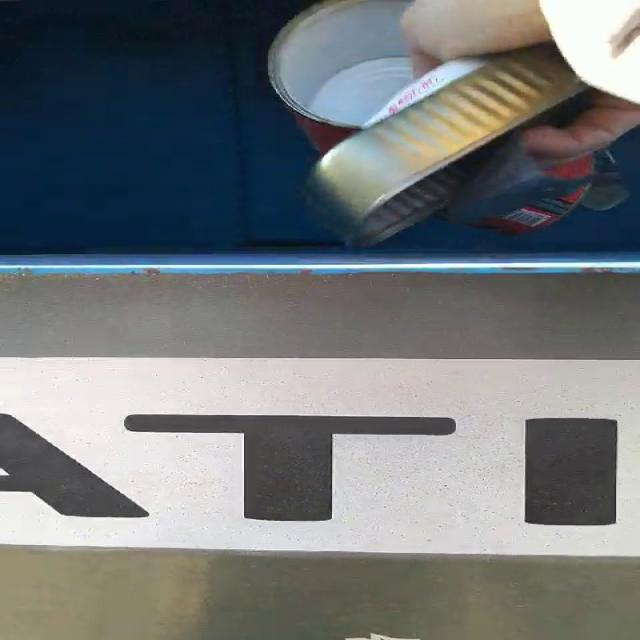bin: (0, 0, 640, 360), (1, 547, 640, 640)
metal: (269, 0, 593, 247)
